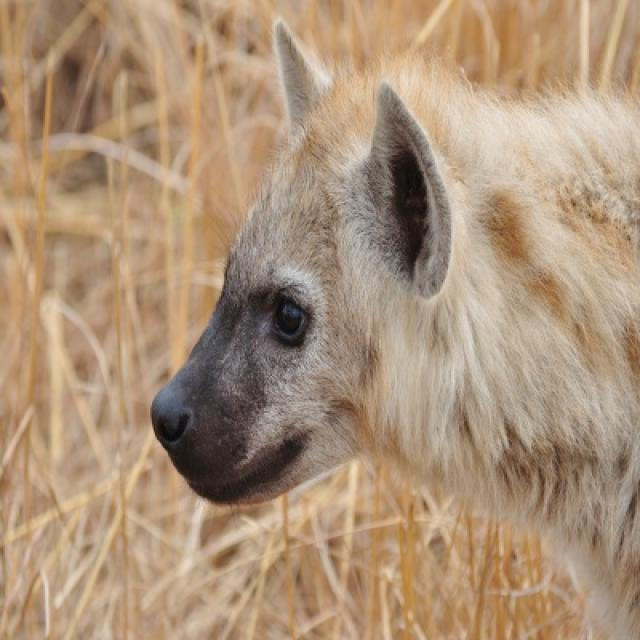hyena: (154, 19, 638, 638)
